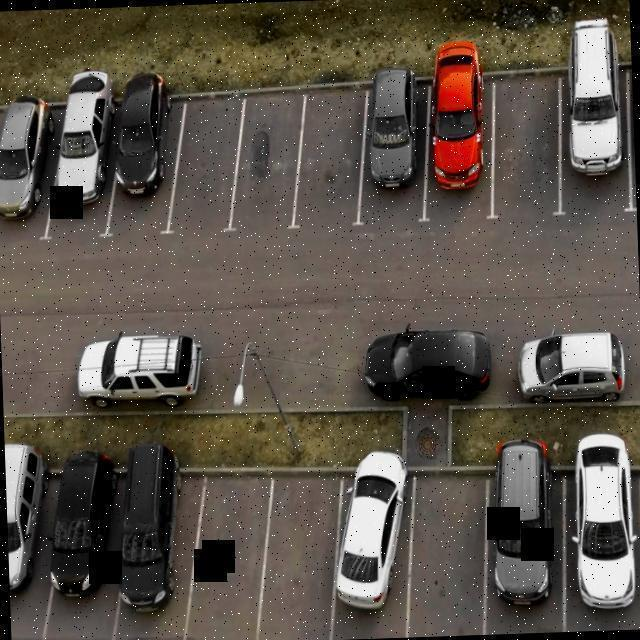space-empty: (401, 471, 493, 637), (188, 469, 273, 640), (260, 468, 343, 640), (487, 72, 562, 222), (294, 83, 371, 229), (235, 87, 304, 228), (170, 94, 237, 225), (0, 99, 11, 238)
space-occupied: (115, 467, 197, 640), (51, 463, 130, 640), (485, 465, 567, 635), (328, 478, 413, 640), (558, 468, 640, 632), (556, 65, 634, 220), (424, 78, 497, 228), (364, 81, 430, 231), (5, 464, 60, 640), (109, 90, 175, 233), (51, 96, 120, 232), (0, 99, 62, 242)
